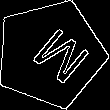M_SW: (15, 20, 85, 88)
